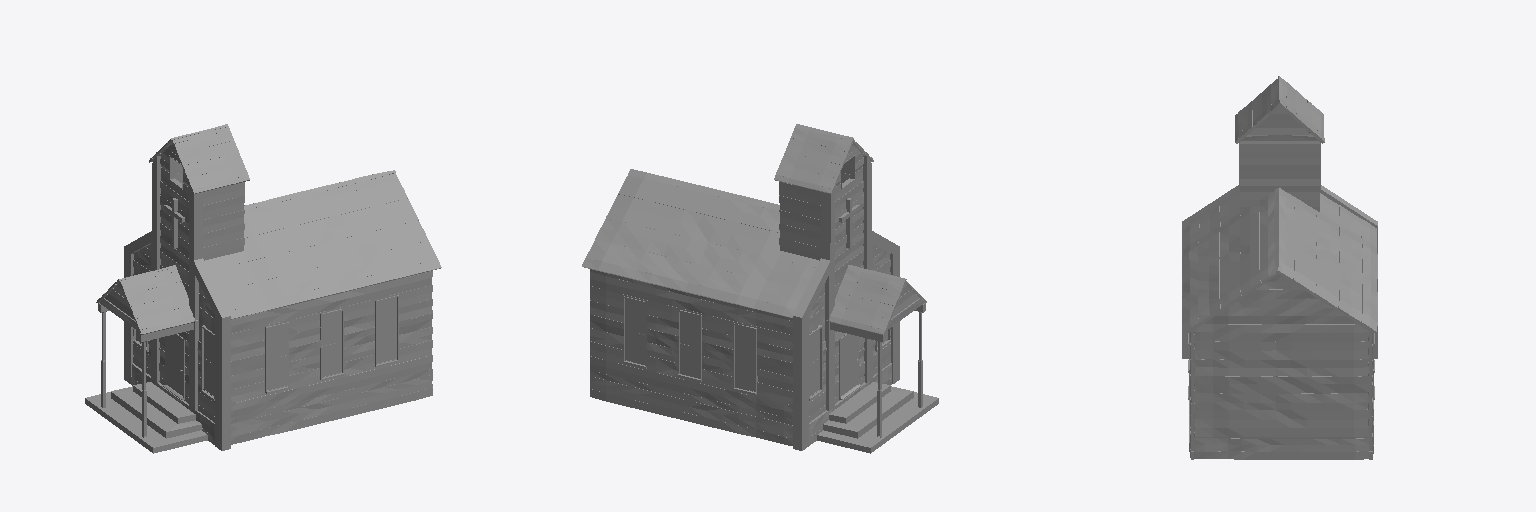
File: Church.obj
The picture shows the model from 3 angles: view 1: azimuth 30°, elevation 25°; view 2: azimuth 150°, elevation 25°; view 3: azimuth 270°, elevation 25°; orthographic projection.
Parts seen in each view (by area): view 1: WildWest_Church_Roofs, WildWest_Church_Walls, WildWest_Church_Front, WildWest_Church_Steps, WildWest_Church_Window, WildWest_Church_Door; view 2: WildWest_Church_Roofs, WildWest_Church_Walls, WildWest_Church_Front, WildWest_Church_Steps, WildWest_Church_Window, WildWest_Church_Door; view 3: WildWest_Church_Walls, WildWest_Church_Roofs, WildWest_Church_Front, WildWest_Church_Steps.
Part boxes in pixels (bbox=[...]): WildWest_Church_Roofs: bbox=[96, 124, 441, 334]; WildWest_Church_Walls: bbox=[231, 271, 432, 423]; WildWest_Church_Front: bbox=[124, 144, 244, 450]; WildWest_Church_Steps: bbox=[85, 282, 432, 453]; WildWest_Church_Window: bbox=[136, 297, 396, 395]; WildWest_Church_Door: bbox=[166, 334, 182, 395]; WildWest_Church_Roofs: bbox=[582, 124, 926, 334]; WildWest_Church_Walls: bbox=[590, 269, 792, 424]; WildWest_Church_Front: bbox=[779, 145, 899, 450]; WildWest_Church_Steps: bbox=[590, 283, 938, 453]; WildWest_Church_Window: bbox=[626, 299, 887, 395]; WildWest_Church_Door: bbox=[841, 334, 857, 395]; WildWest_Church_Walls: bbox=[1188, 274, 1374, 438]; WildWest_Church_Roofs: bbox=[1182, 76, 1377, 334]; WildWest_Church_Front: bbox=[1182, 107, 1377, 358]; WildWest_Church_Steps: bbox=[1189, 400, 1373, 459].
Bounding box in the file's own units: 11.93 × 11.49 × 7.32.